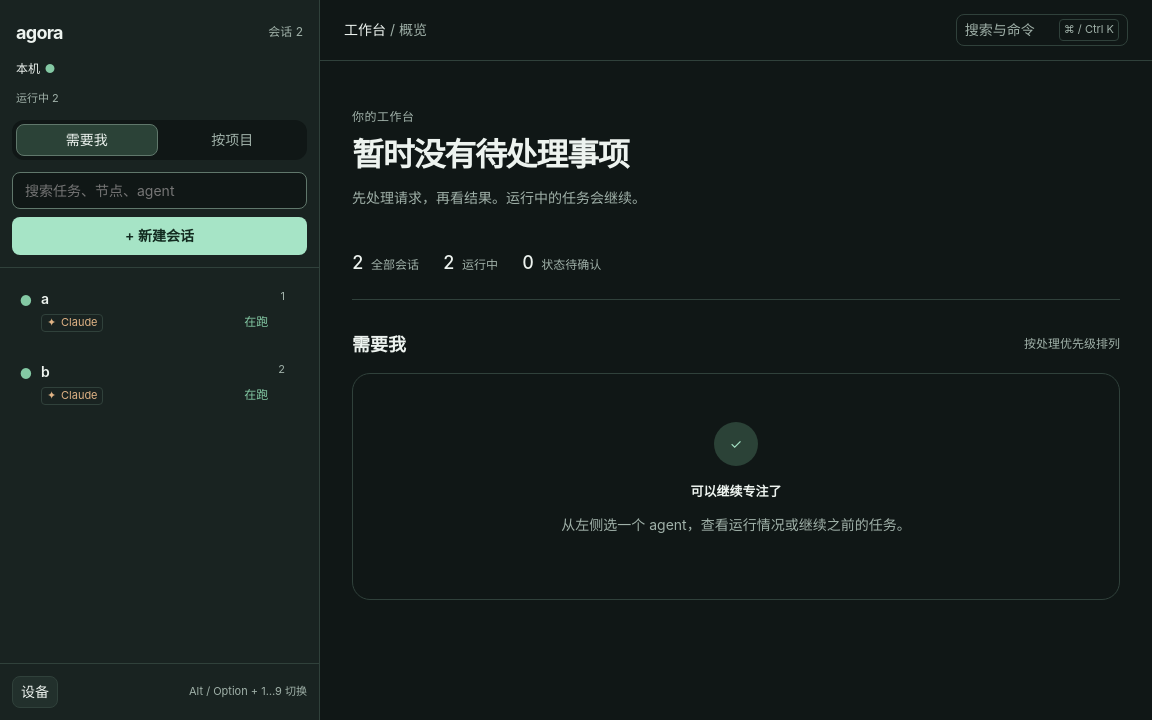
Test case: 点已激活的行 / 标签页后焦点回到终端（agora-vcc） › 切到别的会话再切回来仍走重挂载的 focus；点未激活的行不重复交焦点
Click the button with test id "row-n:a" at [72, 323], box [10,276,294,345]
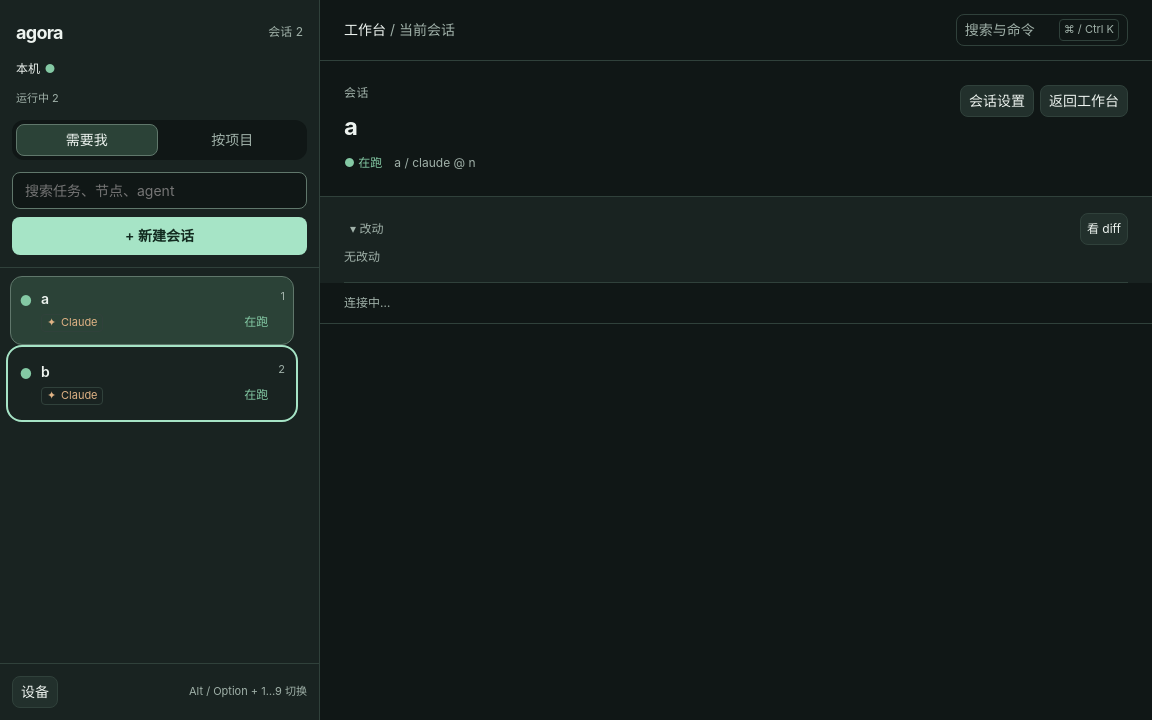
Click the button with test id "row-n:b" at [72, 396], box [10,349,294,418]
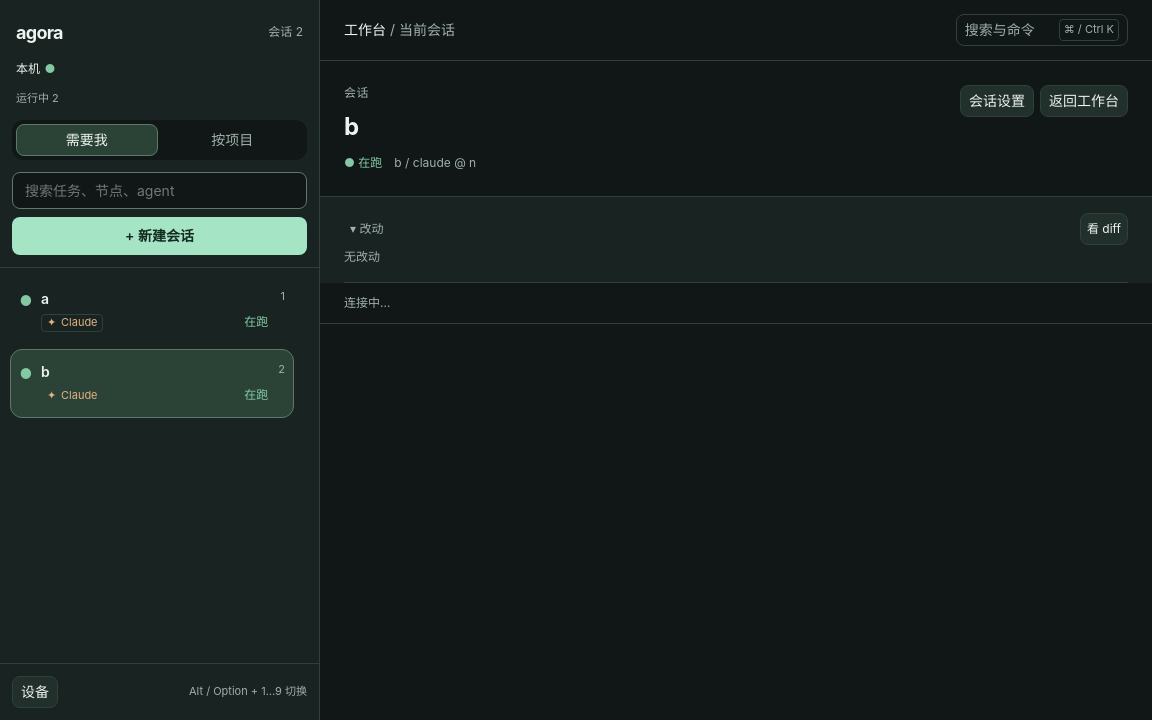
Now the text with test id "crumb" shows "b /", box [394,155,476,172]
